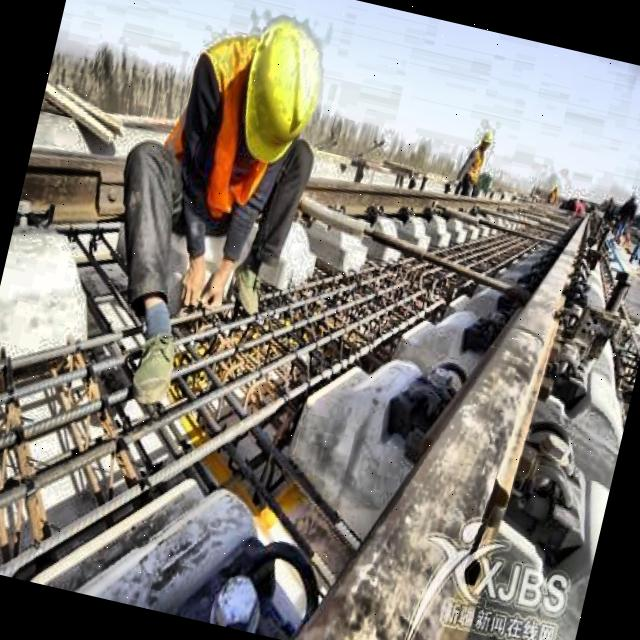helmet: (220, 8, 344, 178), (477, 128, 495, 154)
